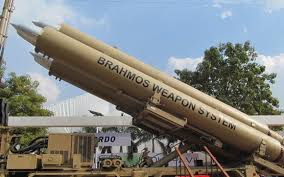ten_lua: (16, 18, 282, 160)
